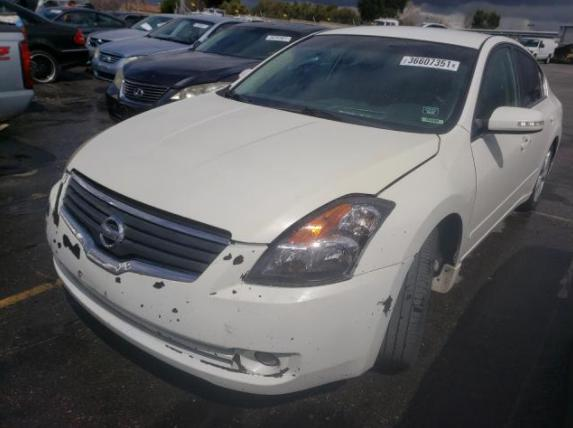Back-door: (507, 38, 555, 194)
Back-wheel: (524, 136, 558, 210)
Back-window: (509, 41, 546, 108)
Fender: (352, 124, 477, 294)
Front-bumper: (47, 171, 417, 395)
Front-door: (458, 36, 524, 254)
Front-wheel: (372, 228, 439, 375)
Front-window: (474, 41, 522, 119)
Grille: (60, 168, 232, 283)
Headlight: (243, 191, 399, 287)
Hood: (66, 90, 440, 244)
Mirror: (470, 106, 544, 143)
Quarter-panel: (546, 82, 563, 145)
Rocker-panel: (462, 192, 531, 261)
Roof: (317, 26, 490, 49)
Windshield: (218, 34, 481, 134)
